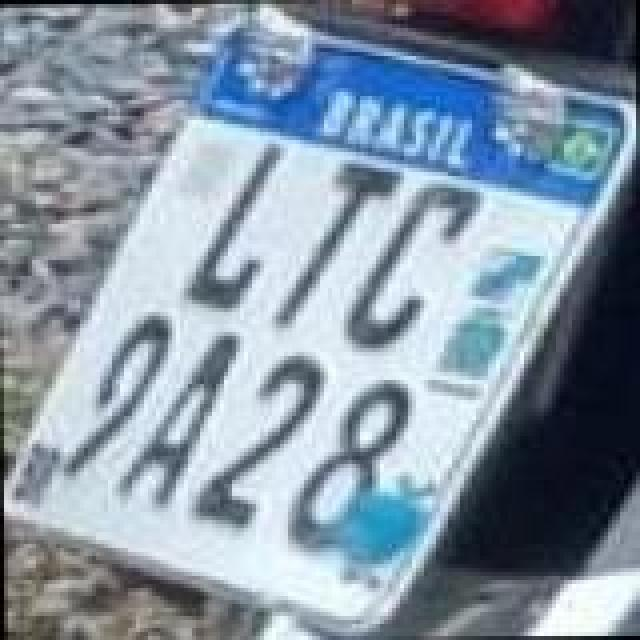2: (184, 348, 328, 532)
8: (284, 376, 420, 552)
9: (54, 312, 178, 480)
A: (106, 330, 246, 510)
C: (336, 178, 488, 350)
L: (178, 138, 286, 310)
T: (266, 158, 406, 330)
